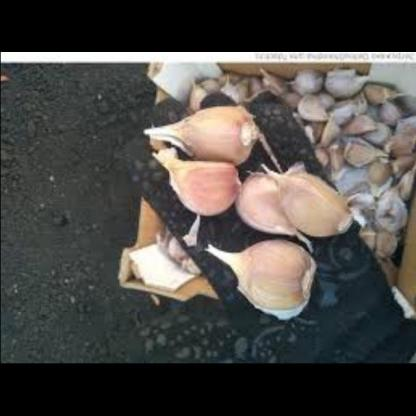garlic: (343, 64, 414, 275), (264, 53, 371, 159), (202, 235, 325, 316), (136, 95, 250, 170), (154, 148, 246, 226), (261, 162, 353, 238), (236, 167, 303, 246)
